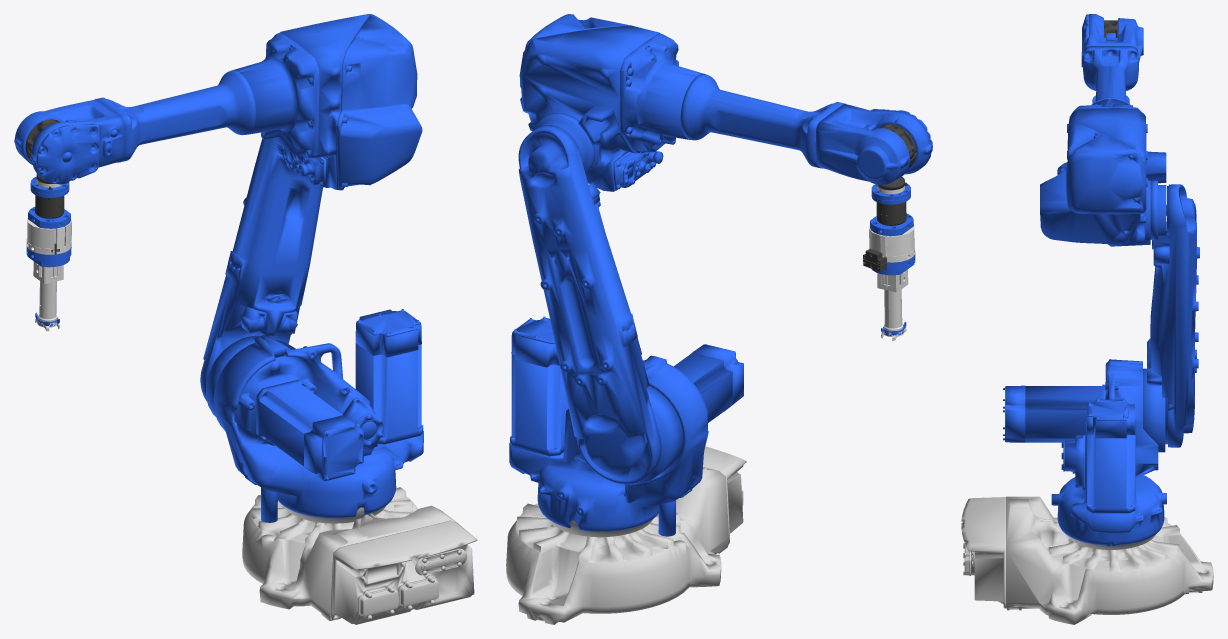
Rendered from polish001.glb.
The picture shows the model from 3 angles, left to right: view 1: azimuth 30°, elevation 25°; view 2: azimuth 150°, elevation 25°; view 3: azimuth 270°, elevation 25°; orthographic projection. The views are drawn at different scales.
Bounding box in the file's own units: 10.95 × 13.6 × 6.76.
